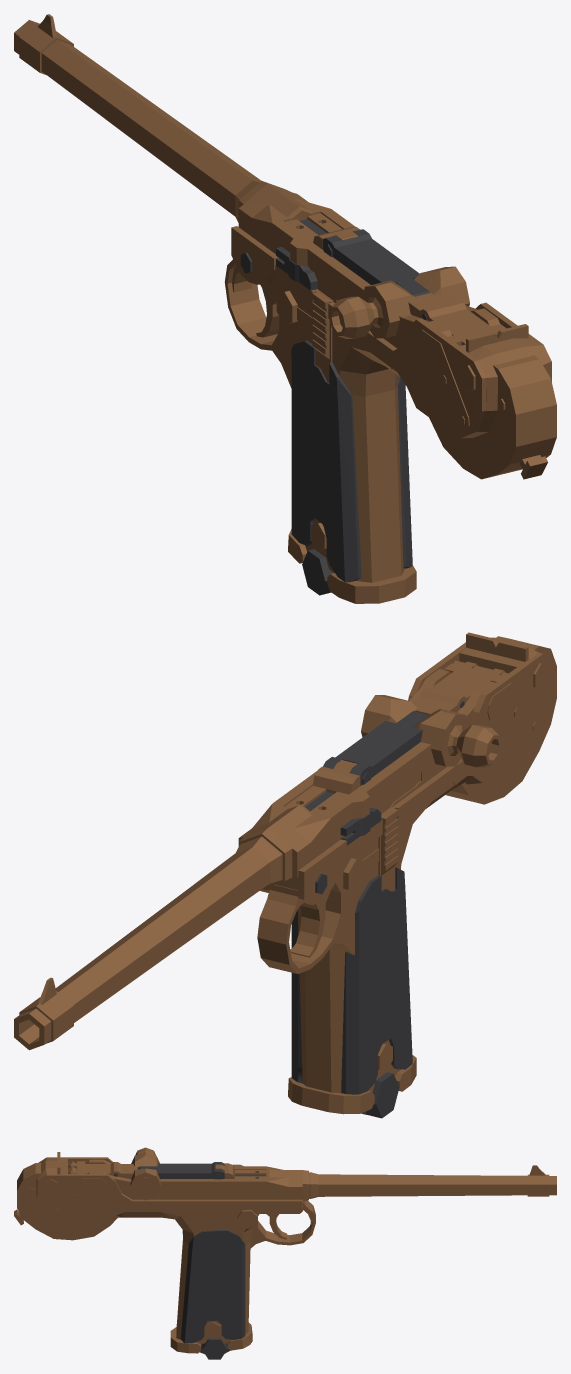
3 renders of one model, top to bottom at view 1: azimuth 30°, elevation 25°; view 2: azimuth 150°, elevation 25°; view 3: azimuth 270°, elevation 25°, orthographic. The views are drawn at different scales.
Visible parts, largest first — view 1: borchardt-c93; view 2: borchardt-c93; view 3: borchardt-c93.
Boxes of the visible parts, x1,y1,x2,y2 form: borchardt-c93: (14,14,556,603); borchardt-c93: (14,632,556,1118); borchardt-c93: (14,1147,556,1359).
Bounding box in the file's own units: 0.0474 × 0.1354 × 0.35.
